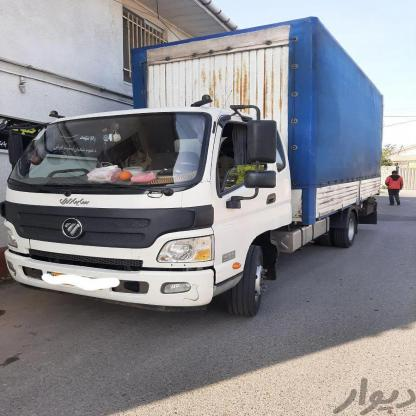Truck: (0, 10, 389, 320)
